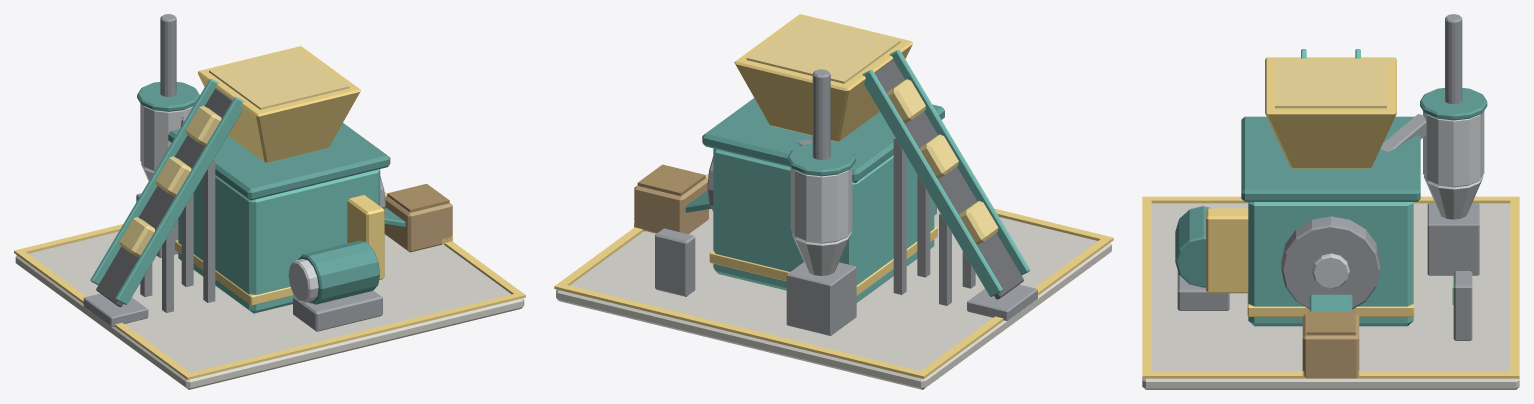
Rendered from PelletMill.fbx.
3 renders of one model, left to right at view 1: azimuth 30°, elevation 25°; view 2: azimuth 150°, elevation 25°; view 3: azimuth 270°, elevation 25°, orthographic. The views are drawn at different scales.
Visible parts, largest first — view 1: PM_Base, PM_Housing, PM_Hopper, PM_HousingCap, PM_HopperStraw, PM_Motor, PM_InfeedRailR, PM_InfeedBelt, PM_Crate, PM_EdgeS, PM_MotorPlinth, PM_InfeedRailL (+17 smaller); view 2: PM_Base, PM_Housing, PM_Hopper, PM_HousingCap, PM_HopperStraw, PM_CycloneLegs, PM_CycloneBody, PM_InfeedRailL, PM_InfeedBelt, PM_EdgeN, PM_Crate, PM_ControlPanel (+16 smaller); view 3: PM_Base, PM_Housing, PM_HousingCap, PM_Hopper, PM_Die, PM_HopperStraw, PM_CycloneBody, PM_BeltGuard, PM_CycloneLegs, PM_Crate, PM_Motor, PM_EdgeE (+13 smaller).
Part boxes in pixels (bbox=[...]): PM_Base: bbox=[15, 231, 524, 389]; PM_Housing: bbox=[178, 169, 380, 313]; PM_Hopper: bbox=[197, 46, 360, 162]; PM_HousingCap: bbox=[168, 123, 390, 200]; PM_HopperStraw: bbox=[209, 48, 349, 109]; PM_Motor: bbox=[298, 240, 379, 304]; PM_InfeedRailR: bbox=[115, 97, 243, 304]; PM_InfeedBelt: bbox=[96, 88, 232, 307]; PM_Crate: bbox=[384, 196, 452, 252]; PM_EdgeS: bbox=[183, 292, 525, 379]; PM_MotorPlinth: bbox=[293, 290, 382, 331]; PM_InfeedRailL: bbox=[90, 79, 219, 284]; PM_Base: bbox=[556, 208, 1111, 389]; PM_Housing: bbox=[713, 148, 934, 302]; PM_Hopper: bbox=[734, 14, 912, 141]; PM_HousingCap: bbox=[702, 98, 944, 182]; PM_HopperStraw: bbox=[746, 16, 900, 83]; PM_CycloneLegs: bbox=[786, 262, 856, 335]; PM_CycloneBody: bbox=[790, 167, 852, 243]; PM_InfeedRailL: bbox=[862, 69, 1002, 296]; PM_InfeedBelt: bbox=[874, 60, 1023, 299]; PM_EdgeN: bbox=[554, 283, 928, 378]; PM_Crate: bbox=[634, 178, 708, 234]; PM_ControlPanel: bbox=[655, 228, 695, 296]; PM_Base: bbox=[1142, 203, 1519, 389]; PM_Housing: bbox=[1248, 202, 1413, 326]; PM_HousingCap: bbox=[1241, 116, 1420, 201]; PM_Hopper: bbox=[1265, 57, 1396, 168]; PM_Die: bbox=[1281, 216, 1380, 309]; PM_HopperStraw: bbox=[1275, 58, 1386, 108]; PM_CycloneBody: bbox=[1423, 111, 1484, 187]; PM_BeltGuard: bbox=[1206, 208, 1248, 293]; PM_CycloneLegs: bbox=[1427, 203, 1479, 275]; PM_Crate: bbox=[1302, 314, 1359, 378]; PM_Motor: bbox=[1175, 206, 1211, 287]; PM_EdgeE: bbox=[1151, 372, 1510, 378].
Bounding box in the file's own units: 18.3 × 12.2 × 16.
